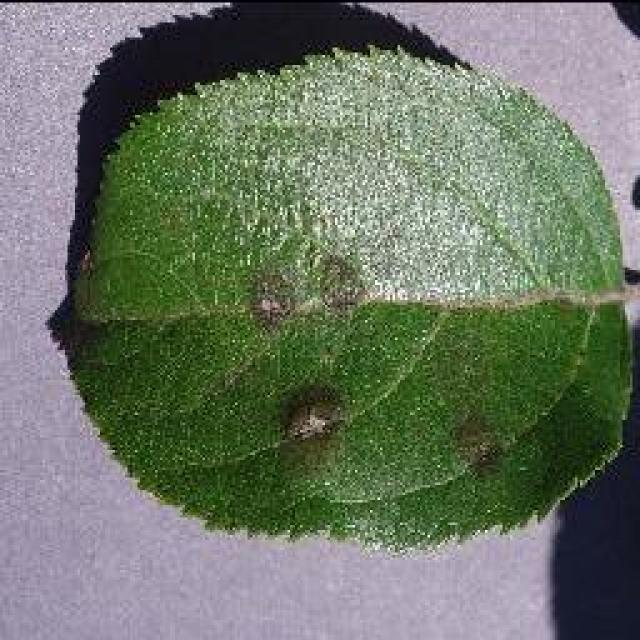apple scab disease: (50, 38, 638, 552)
